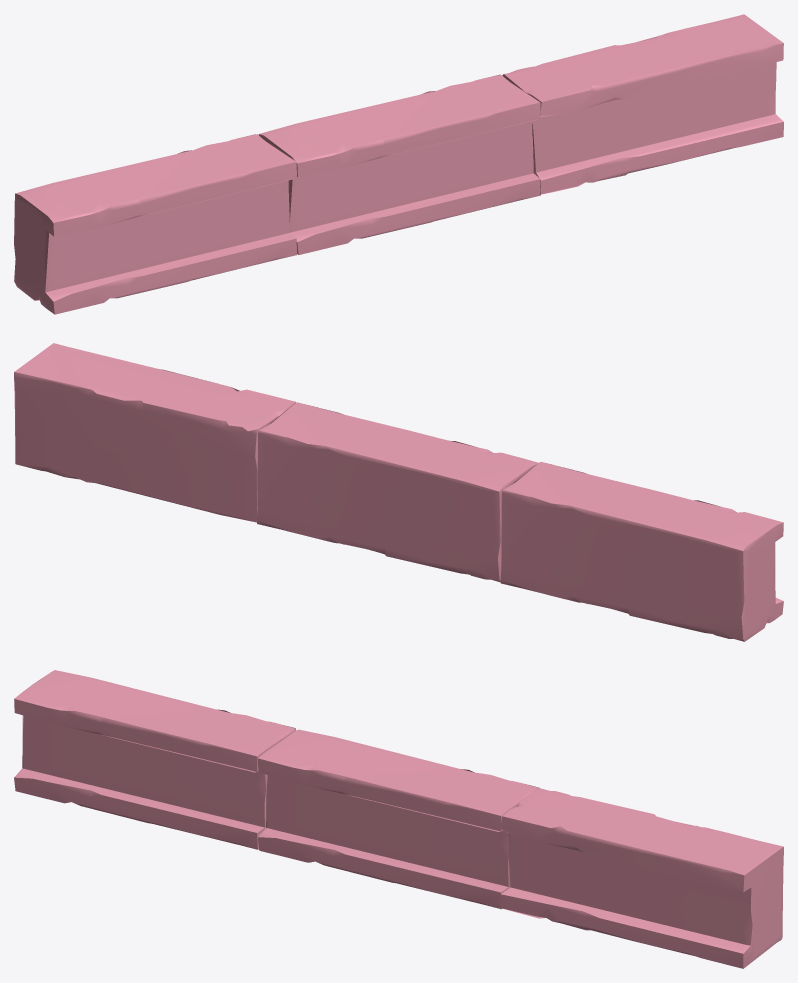
File: stone_element_15_line_05.fbx
The picture shows the model from 3 angles, top to bottom: view 1: azimuth 30°, elevation 25°; view 2: azimuth 150°, elevation 25°; view 3: azimuth 330°, elevation 25°; orthographic projection.
Parts seen in each view (by area): view 1: stone_element_15_line_05_LOD0; view 2: stone_element_15_line_05_LOD0; view 3: stone_element_15_line_05_LOD0.
Boxes of the visible parts, x1,y1,x2,y2 form: stone_element_15_line_05_LOD0: (14, 14, 783, 314); stone_element_15_line_05_LOD0: (14, 343, 783, 641); stone_element_15_line_05_LOD0: (14, 670, 783, 968).
Size of the model in its own units: 546 by 67.55 by 52.67.
